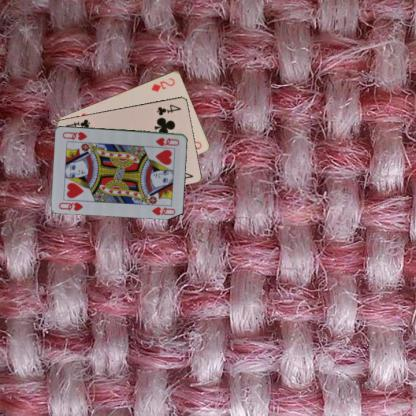2d: (149, 75, 176, 93)
4c: (154, 102, 182, 116)
Qh: (56, 199, 84, 212), (153, 134, 181, 146)
